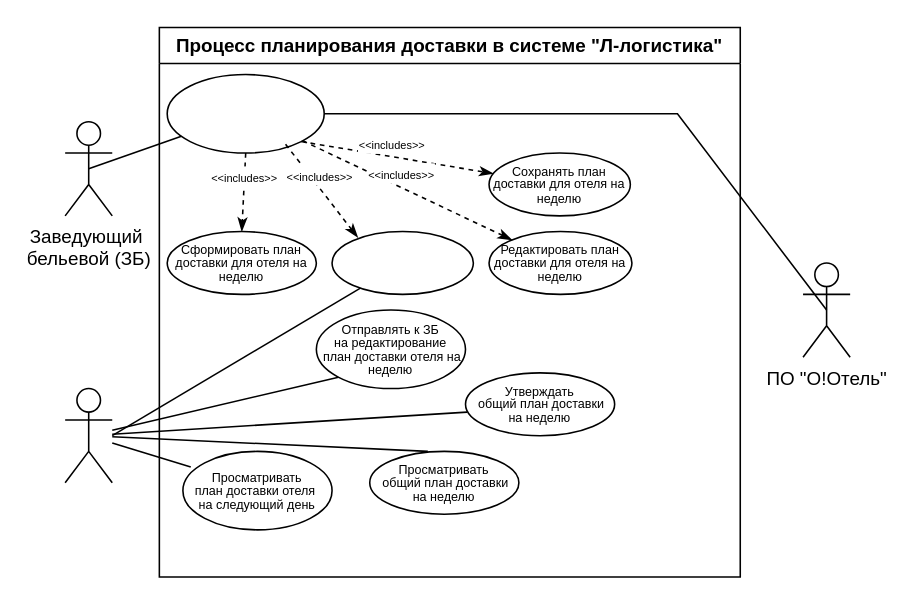
Image size: 914x604. Some labels were removed from this diagram. The shapes that lost their labels are listed below. From the top down, each one's centre as x and y in pixels, then its label:
point (245, 113): CRUD План доставки на неделю с учетом загрузки отеля
point (401, 262): Просматривать план доставки для отеля на неделю
point (88, 435): Менеджер по логистике (МЛ)
